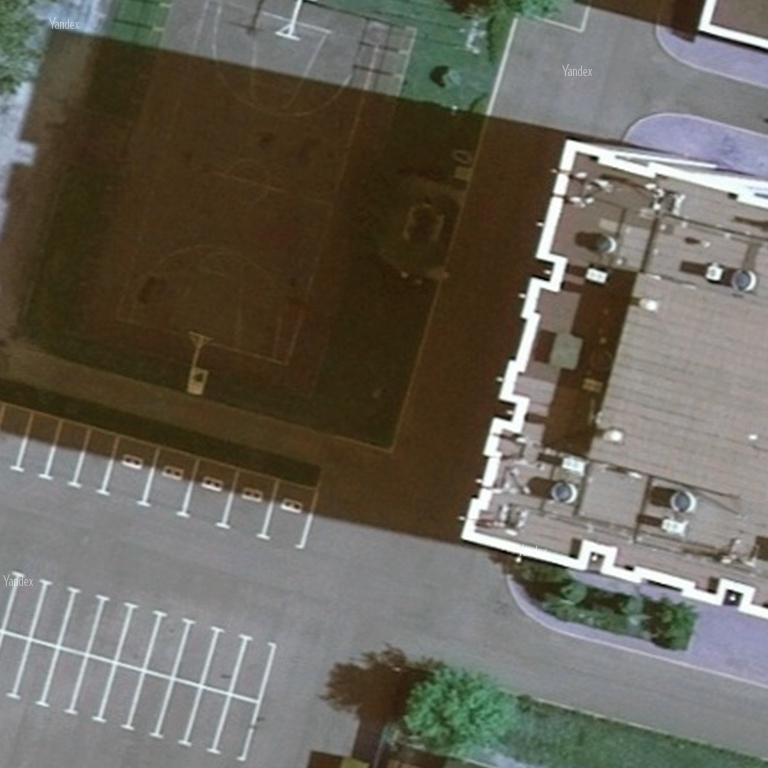basket_court: (53, 2, 432, 428)
